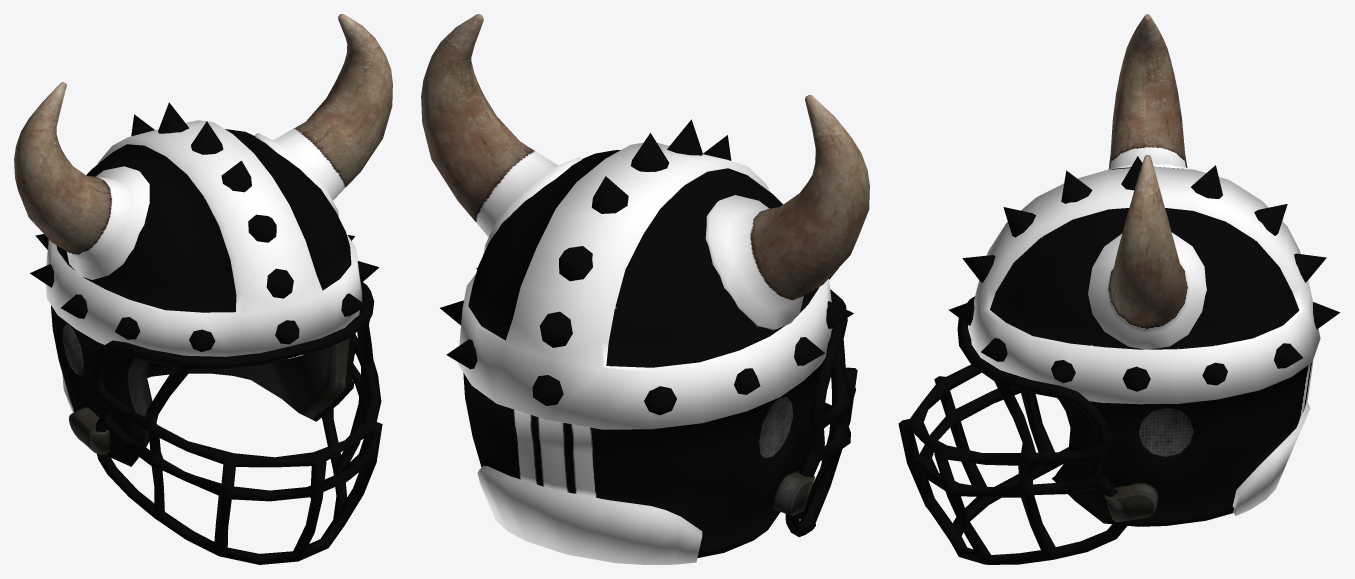
File: SurvivorMale_Head_Helmet_Viking_LOD0.glb
3 renders of one model, left to right at view 1: azimuth 30°, elevation 25°; view 2: azimuth 150°, elevation 25°; view 3: azimuth 270°, elevation 25°, orthographic. The views are drawn at different scales.
Parts seen in each view (by area): view 1: Hoodie; view 2: Hoodie; view 3: Hoodie.
Part boxes in pixels (box(x1,y1,x2,y2)): Hoodie: box(14, 14, 392, 564); Hoodie: box(421, 14, 869, 564); Hoodie: box(898, 14, 1340, 564).
Size of the model in its own units: 0.2999 by 0.3427 by 0.3002.
Materials: 1 (1 with a texture image).
